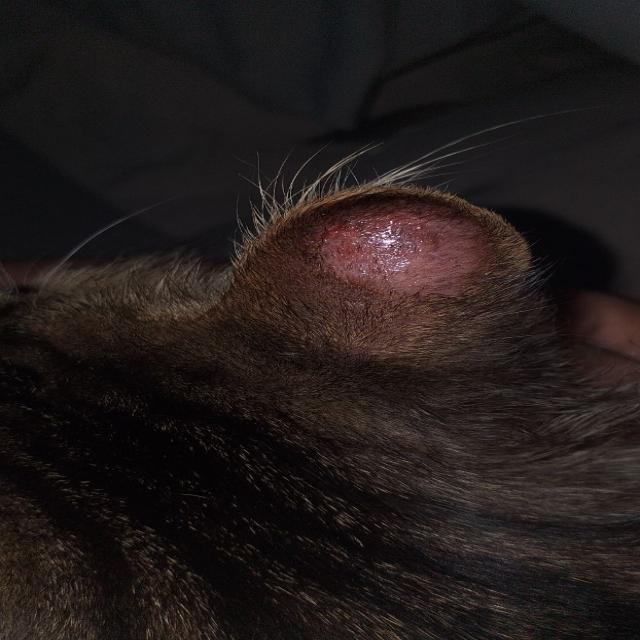hac lao: (240, 123, 548, 395)
